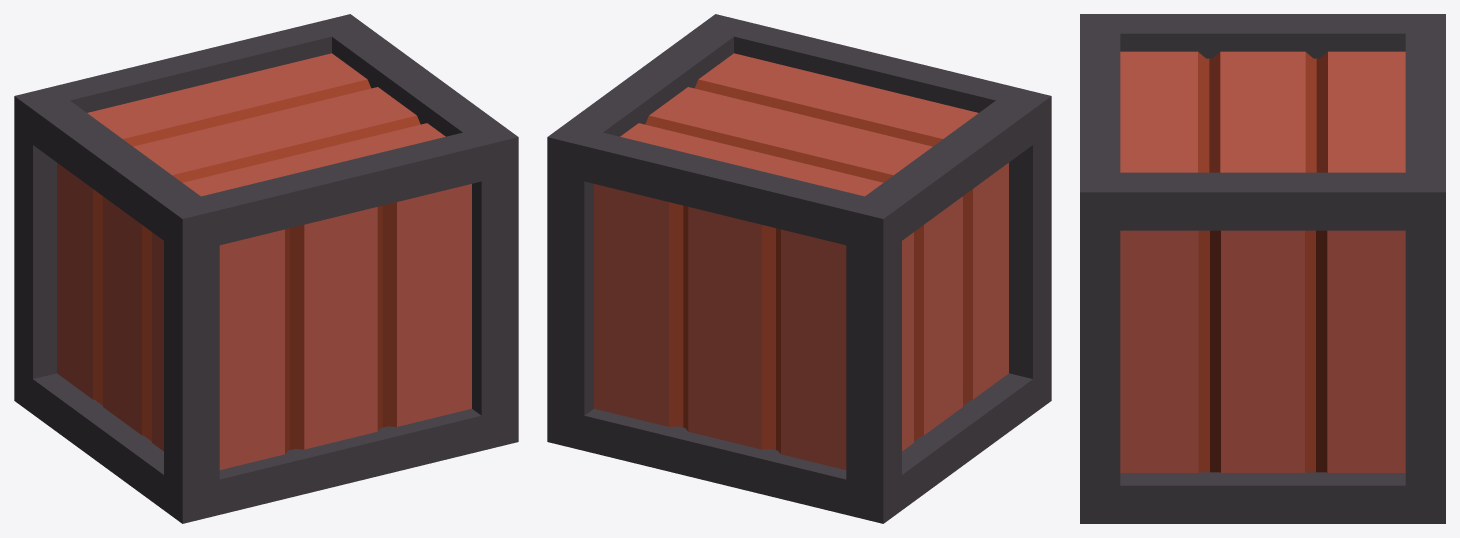
The model's file is crate.fbx.
The picture shows the model from 3 angles, left to right: view 1: azimuth 30°, elevation 25°; view 2: azimuth 150°, elevation 25°; view 3: azimuth 270°, elevation 25°; orthographic projection. The views are drawn at different scales.
Parts seen in each view (by area): view 1: crate; view 2: crate; view 3: crate.
Boxes of the visible parts, x1,y1,x2,y2 form: crate: (14, 14, 518, 523); crate: (547, 14, 1051, 523); crate: (1080, 14, 1445, 523).
Bounding box in the file's own units: 104 × 90.56 × 90.56.
